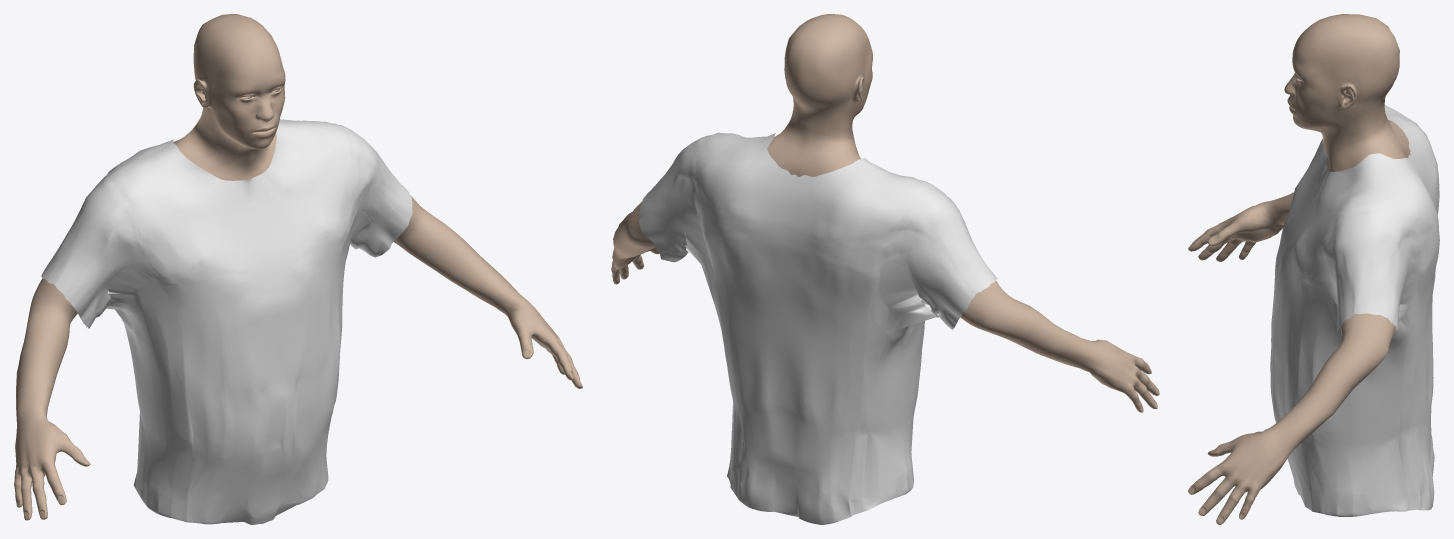
3 renders of one model, left to right at view 1: azimuth 30°, elevation 25°; view 2: azimuth 150°, elevation 25°; view 3: azimuth 270°, elevation 25°, orthographic. The views are drawn at different scales.
Visible parts, largest first — view 1: Cube, Base; view 2: Cube, Base; view 3: Cube, Base.
Part boxes in pixels (x1,y1,x2,y2): Cube: (41, 119, 412, 524); Base: (14, 14, 582, 520); Cube: (639, 132, 997, 524); Base: (611, 14, 1159, 412); Cube: (1270, 105, 1439, 516); Base: (1188, 14, 1410, 524).
Bounding box in the file's own units: 10.47 × 8.72 × 4.21.
